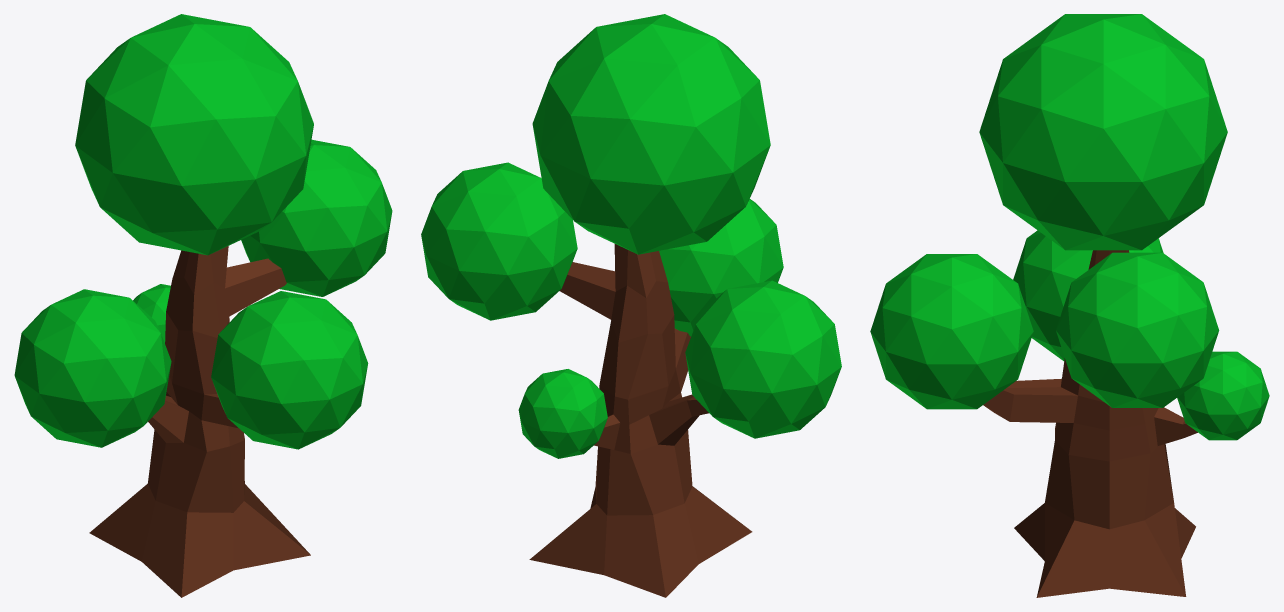
File: tree2.fbx
3 renders of one model, left to right at view 1: azimuth 30°, elevation 25°; view 2: azimuth 150°, elevation 25°; view 3: azimuth 270°, elevation 25°, orthographic. The views are drawn at different scales.
Parts seen in each view (by area): view 1: Cube; view 2: Cube; view 3: Cube.
Boxes of the visible parts, x1,y1,x2,y2 form: Cube: [14, 14, 392, 597]; Cube: [421, 14, 841, 597]; Cube: [870, 14, 1269, 597].
Size of the model in its own units: 682 by 916 by 617.
